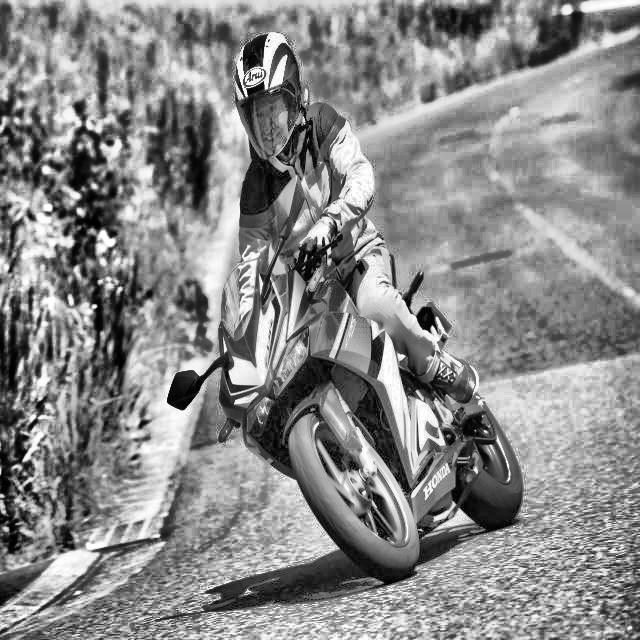Helmet: (230, 28, 309, 166)
